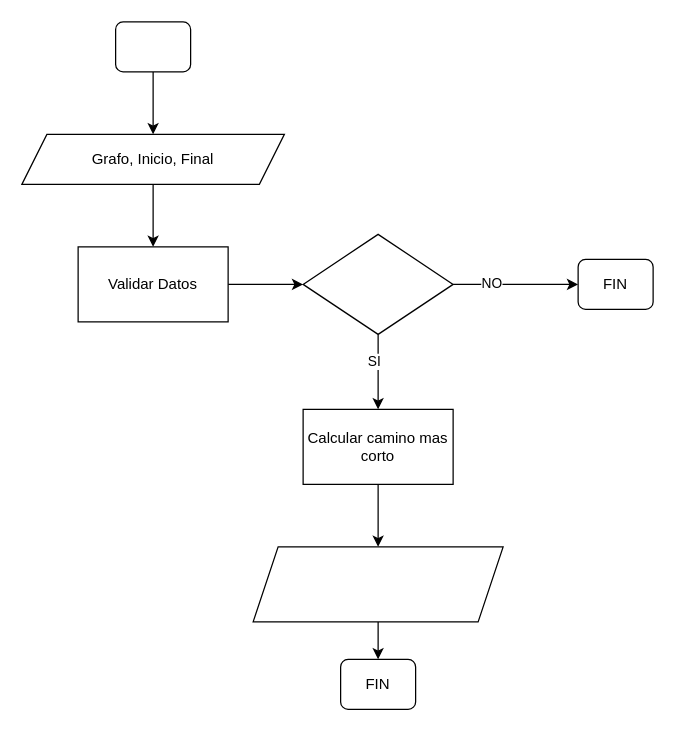
This 675x731 diagram has some shape labels left out. Each missing label, with the box of its shape:
Datos validos: (302, 233, 453, 334)
Inicio: (114, 21, 191, 72)
Resultado, camino mas corto: (252, 546, 503, 622)
